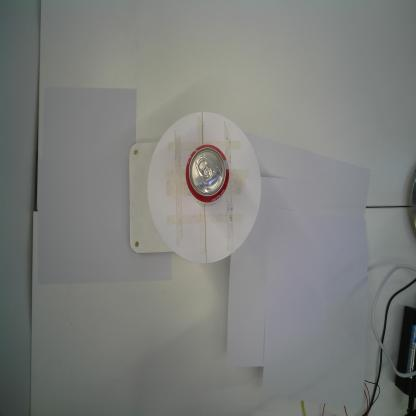Drink: (184, 142, 230, 205)
